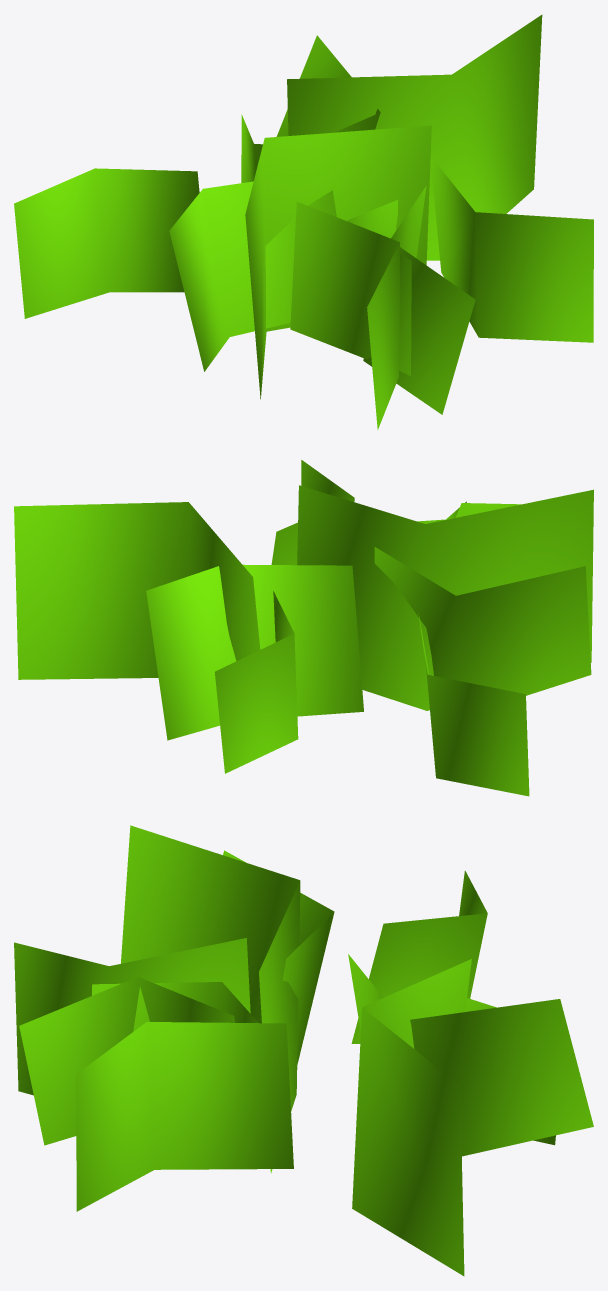
File: grass1.fbx
The picture shows the model from 3 angles, top to bottom: view 1: azimuth 30°, elevation 25°; view 2: azimuth 150°, elevation 25°; view 3: azimuth 270°, elevation 25°; orthographic projection. The views are drawn at different scales.
Visible parts, largest first — view 1: Wheat_Grass_LowPoly; view 2: Wheat_Grass_LowPoly; view 3: Wheat_Grass_LowPoly.
Part boxes in pixels (x1=…): Wheat_Grass_LowPoly: x1=14, y1=14, x2=593, y2=429; Wheat_Grass_LowPoly: x1=14, y1=460, x2=593, y2=796; Wheat_Grass_LowPoly: x1=14, y1=825, x2=593, y2=1276.
Size of the model in its own units: 74.88 by 28.67 by 64.31.
